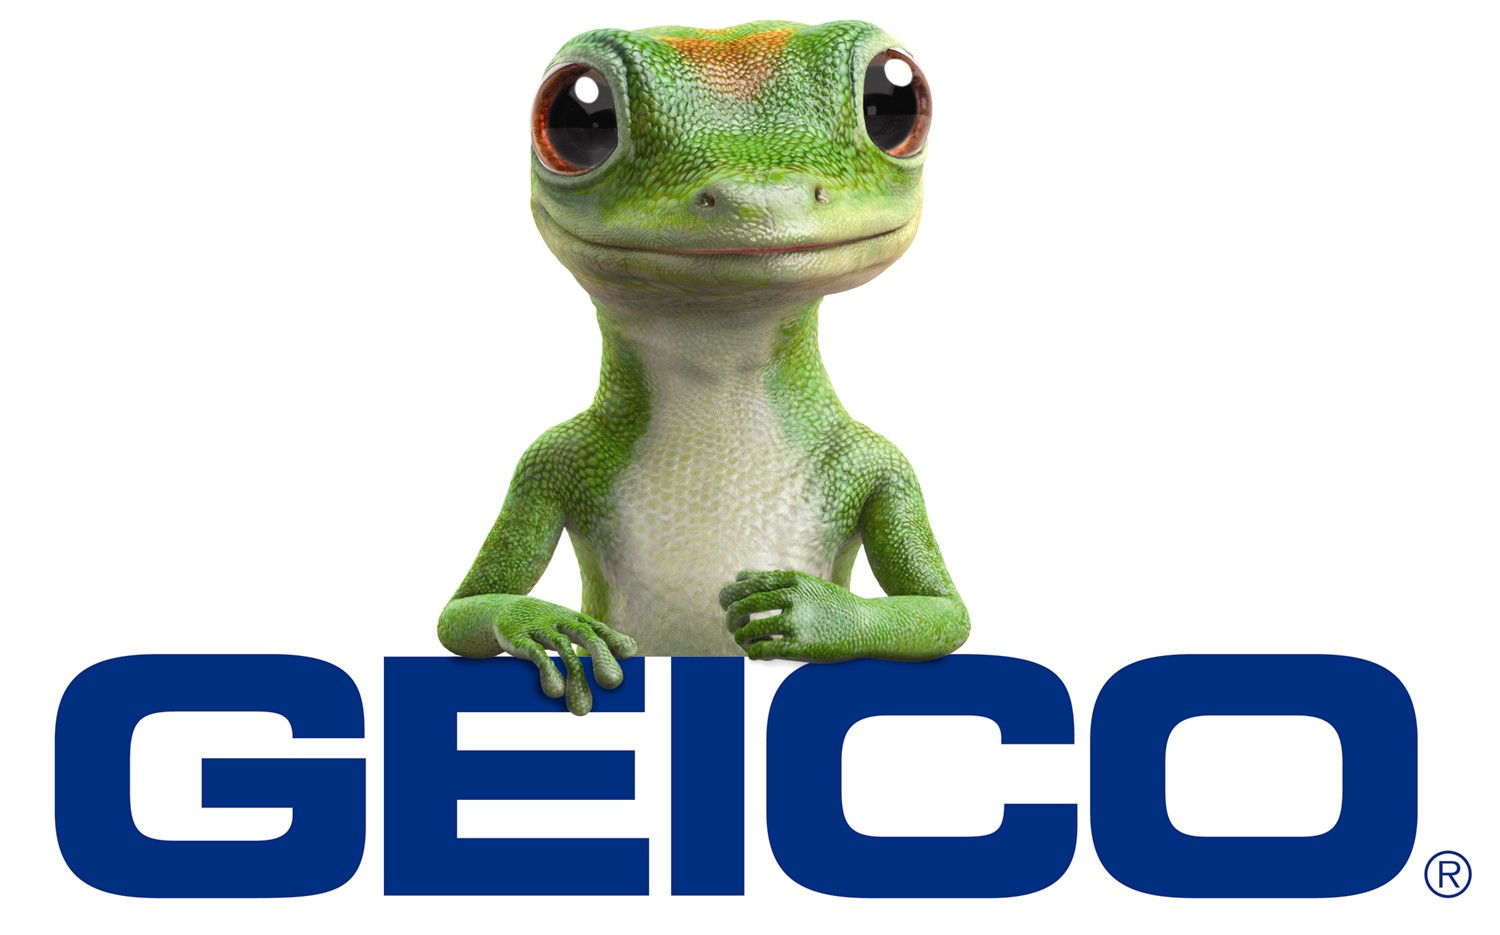Geico: (46, 652, 1464, 909)
